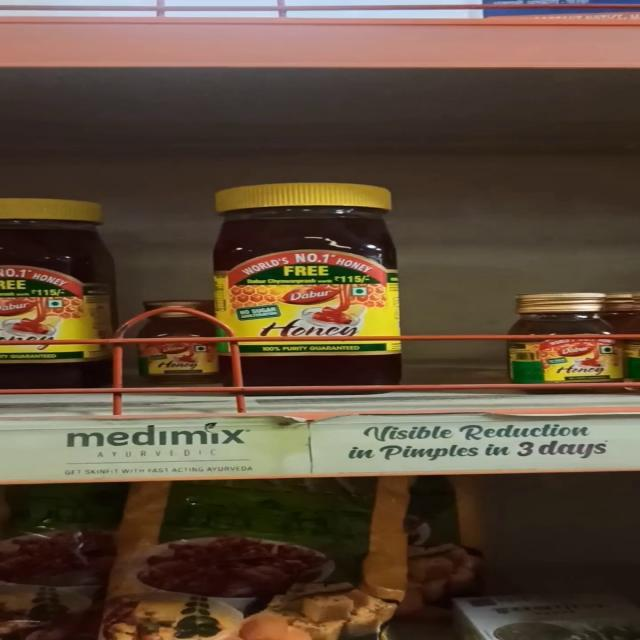Dabur Honey: (213, 176, 414, 396), (509, 286, 632, 391)
